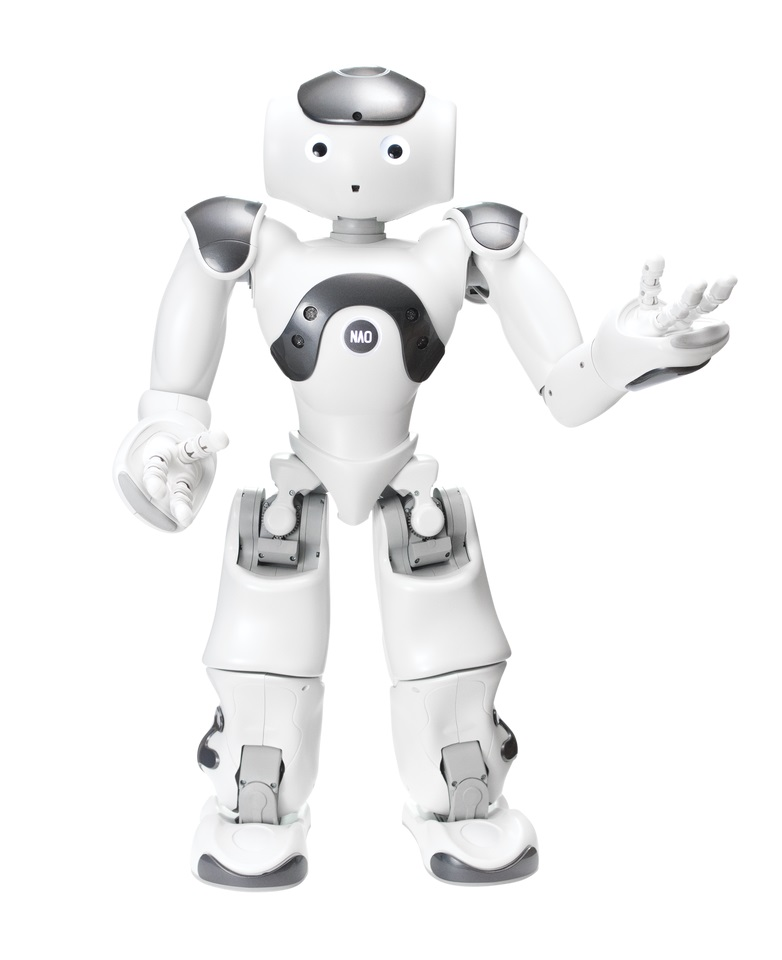person-like: (105, 51, 744, 897)
